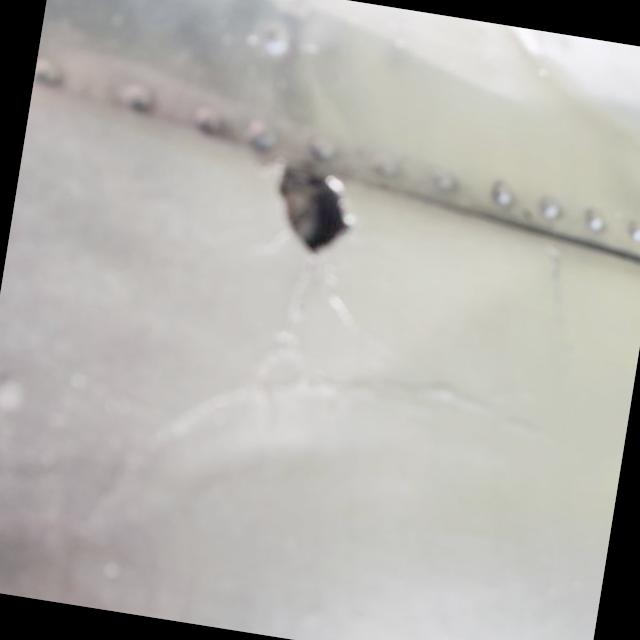crack: (141, 116, 443, 493)
